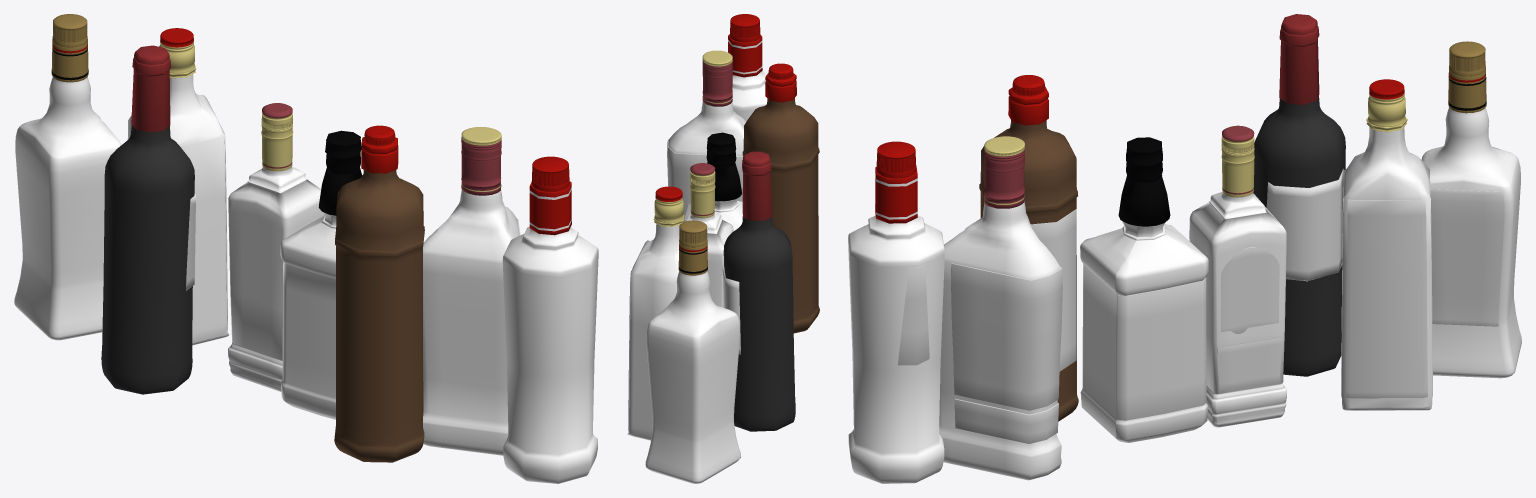
Rendered from alcoholBottles.fbx.
3 renders of one model, left to right at view 1: azimuth 30°, elevation 25°; view 2: azimuth 150°, elevation 25°; view 3: azimuth 270°, elevation 25°, orthographic. The views are drawn at different scales.
Visible parts, largest first — view 1: GarrafaVelho.001, GarrafaSmirnoff.001, GarrafaGrants.001, GarrafaVinho.001, GarrafaCuraçau, GarrafaTequila.001, GarrafaJack.001, GarrafaRed.001, RotuloCimaVinho.001, TampaRed.001, TampaGrants.001, TampaSmirnoff.001 (+5 smaller); view 2: GarrafaCuraçau, GarrafaVinho.001, GarrafaVelho.001, GarrafaRed.001, GarrafaGrants.001, GarrafaTequila.001, GarrafaSmirnoff.001, RotuloCimaVinho.001, RotuloGrants.001, GarrafaJack.001, TampaRed.001, RotuloJackGargalo.001 (+7 smaller); view 3: GarrafaSmirnoff.001, RotuloGrants.001, RotuloRed.001, GarrafaJack.001, GarrafaGrants.001, GarrafaCuraçau, GarrafaTequila.001, GarrafaVinho.001, RotuloJack.001, RotuloCuraçau.001, GarrafaRed.001, GarrafaVelho.001 (+12 smaller).
Part boxes in pixels (box(x1,y1,x2,y2)): GarrafaVelho.001: box(334, 137, 424, 462); GarrafaSmirnoff.001: box(502, 181, 598, 483); GarrafaGrants.001: box(423, 154, 519, 455); GarrafaVinho.001: box(101, 124, 194, 394); GarrafaCuraçau: box(14, 41, 121, 340); GarrafaTequila.001: box(228, 124, 324, 391); GarrafaJack.001: box(280, 153, 360, 419); GarrafaRed.001: box(127, 66, 228, 345); RotuloCimaVinho.001: box(131, 45, 170, 132); TampaRed.001: box(159, 28, 194, 73); TampaGrants.001: box(461, 127, 501, 160); TampaSmirnoff.001: box(531, 156, 569, 191); GarrafaCuraçau: box(645, 242, 740, 483); GarrafaVinho.001: box(723, 216, 795, 431); GarrafaVelho.001: box(742, 73, 819, 333); GarrafaRed.001: box(627, 215, 708, 440); GarrafaGrants.001: box(668, 73, 745, 156); GarrafaTequila.001: box(683, 181, 733, 307); GarrafaSmirnoff.001: box(728, 34, 767, 121); RotuloCimaVinho.001: box(742, 151, 772, 220); RotuloGrants.001: box(667, 140, 742, 215); GarrafaJack.001: box(684, 149, 742, 230); TampaRed.001: box(654, 186, 683, 223); RotuloJackGargalo.001: box(707, 162, 741, 201); GarrafaSmirnoff.001: box(848, 166, 944, 483); RotuloGrants.001: box(951, 263, 1062, 443); RotuloRed.001: box(1341, 198, 1432, 398); GarrafaJack.001: box(1080, 161, 1208, 442); GarrafaGrants.001: box(939, 166, 1061, 480); GarrafaCuraçau: box(1421, 70, 1521, 378); GarrafaTequila.001: box(1189, 148, 1286, 427); GarrafaVinho.001: box(1253, 96, 1345, 376); RotuloJack.001: box(1117, 277, 1206, 420); RotuloCuraçau.001: box(1430, 189, 1504, 326); GarrafaRed.001: box(1341, 118, 1432, 410); GarrafaVelho.001: box(979, 86, 1078, 421).
Bounding box in the file's own units: 31.78 × 34.38 × 60.92.
